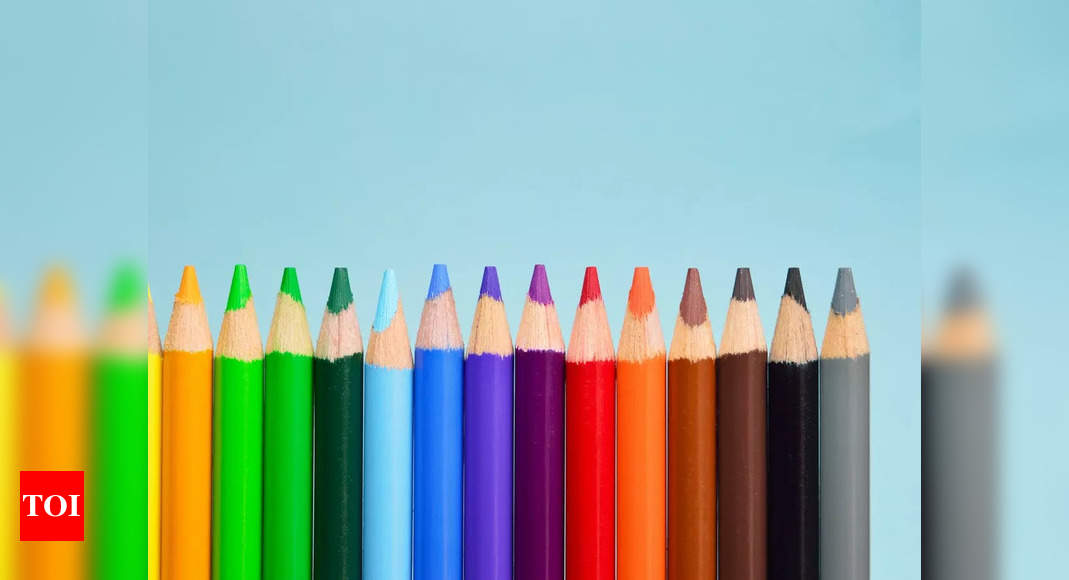pencil: (125, 223, 891, 580)
